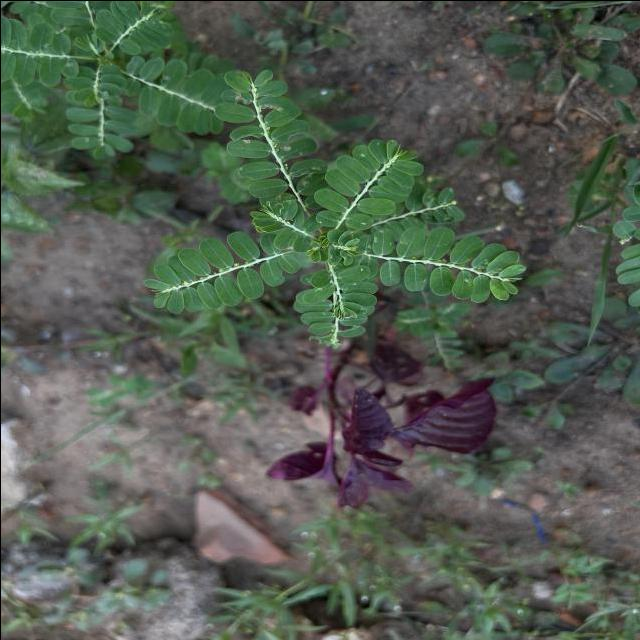Phyllanthus niruri: (213, 68, 321, 216), (142, 228, 302, 316), (360, 223, 528, 304), (314, 137, 425, 232), (291, 262, 377, 350), (246, 196, 324, 252)
